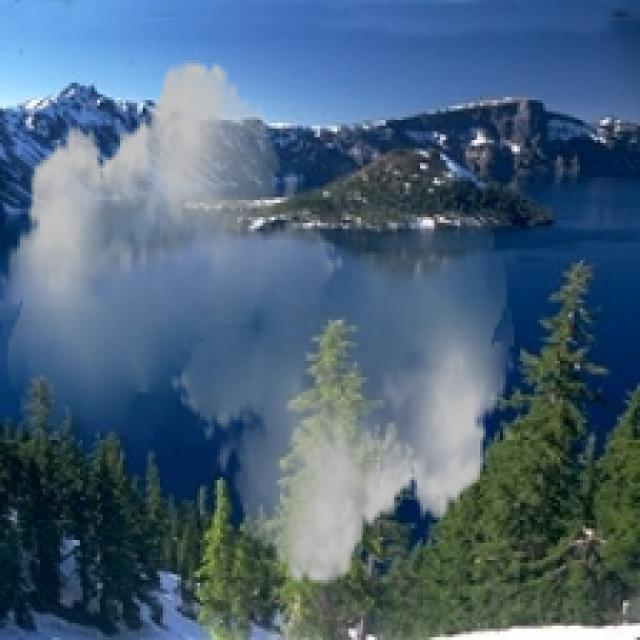Smoke: (0, 43, 515, 604)
